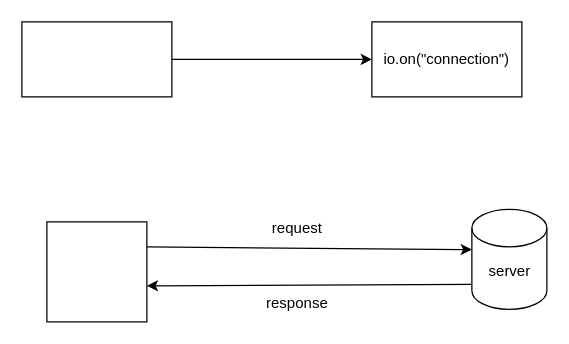
The diagram is 569 pixels wide and 344 high, and some of its shapes have lost their labels. The centre of each missing label's shape, as x and y in pixels:
"client" goes at point 96,271.
"frontend io()" goes at point 96,59.
